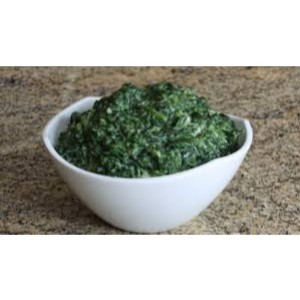spinach_brain food: (64, 81, 240, 179)
